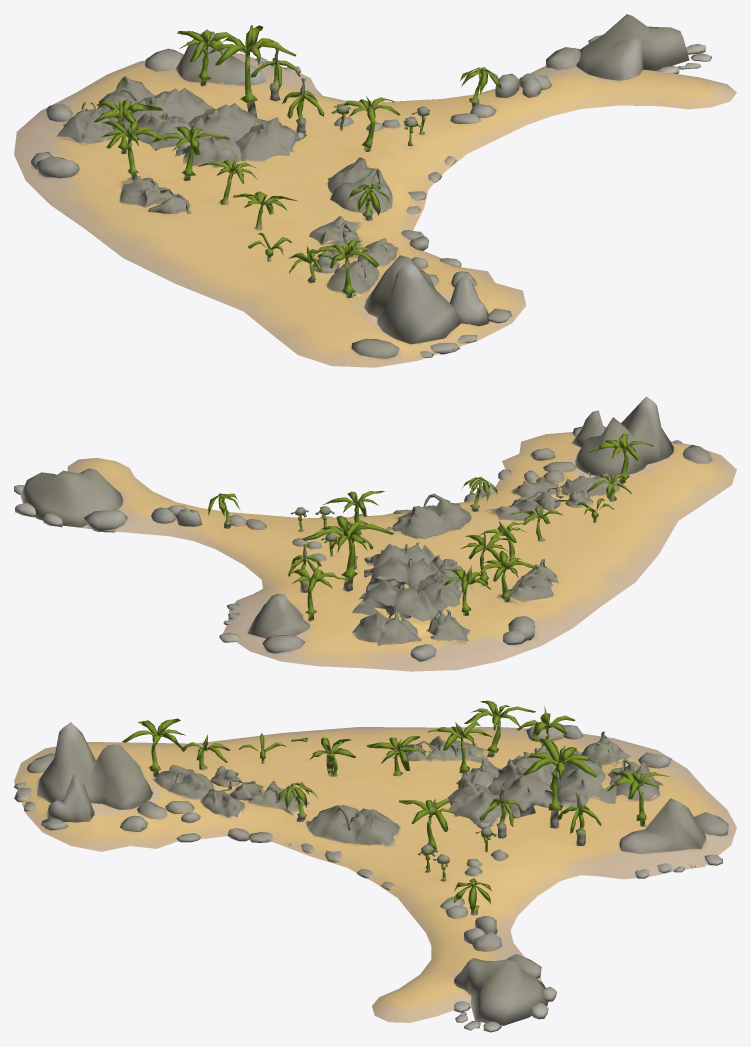
The model's file is isle_07.glb.
The picture shows the model from 3 angles, top to bottom: view 1: azimuth 30°, elevation 25°; view 2: azimuth 150°, elevation 25°; view 3: azimuth 270°, elevation 25°; orthographic projection. The views are drawn at different scales.
Visible parts, largest first — view 1: tripo_node_07395a9d-871a-4206-bac3-cf0ccc2be0f0; view 2: tripo_node_07395a9d-871a-4206-bac3-cf0ccc2be0f0; view 3: tripo_node_07395a9d-871a-4206-bac3-cf0ccc2be0f0.
Boxes of the visible parts, x1,y1,x2,y2 form: tripo_node_07395a9d-871a-4206-bac3-cf0ccc2be0f0: (14, 14, 736, 367); tripo_node_07395a9d-871a-4206-bac3-cf0ccc2be0f0: (14, 396, 736, 671); tripo_node_07395a9d-871a-4206-bac3-cf0ccc2be0f0: (14, 700, 736, 1032).
Bounding box in the file's own units: 85.38 × 12.53 × 85.38.
1 material, 1 textured.
